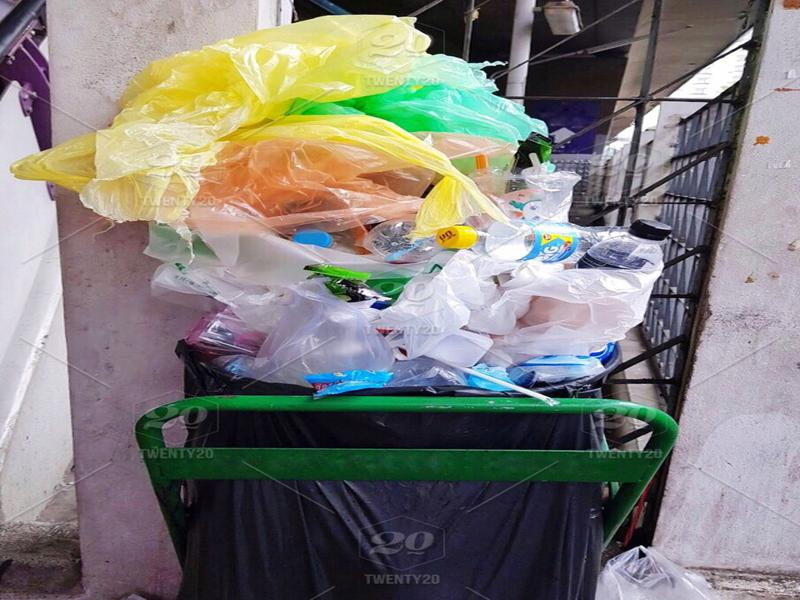plastic: (107, 11, 436, 131), (393, 259, 658, 367), (235, 124, 448, 245), (202, 281, 401, 384), (79, 116, 233, 235), (389, 75, 551, 154), (477, 214, 637, 263)
